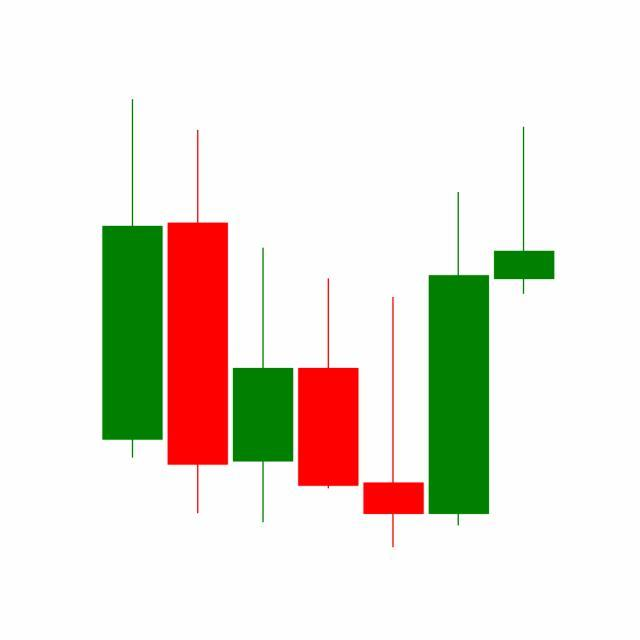Hikkake Pattern: (165, 125, 492, 548)
